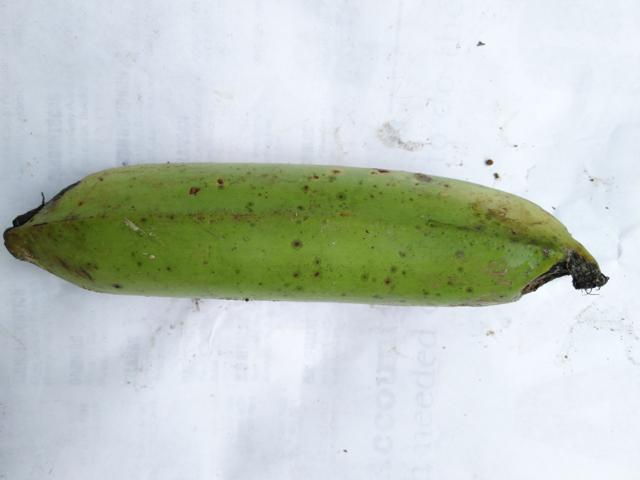rotten: (495, 223, 606, 322), (0, 160, 104, 244)
unripe: (0, 138, 614, 336)
